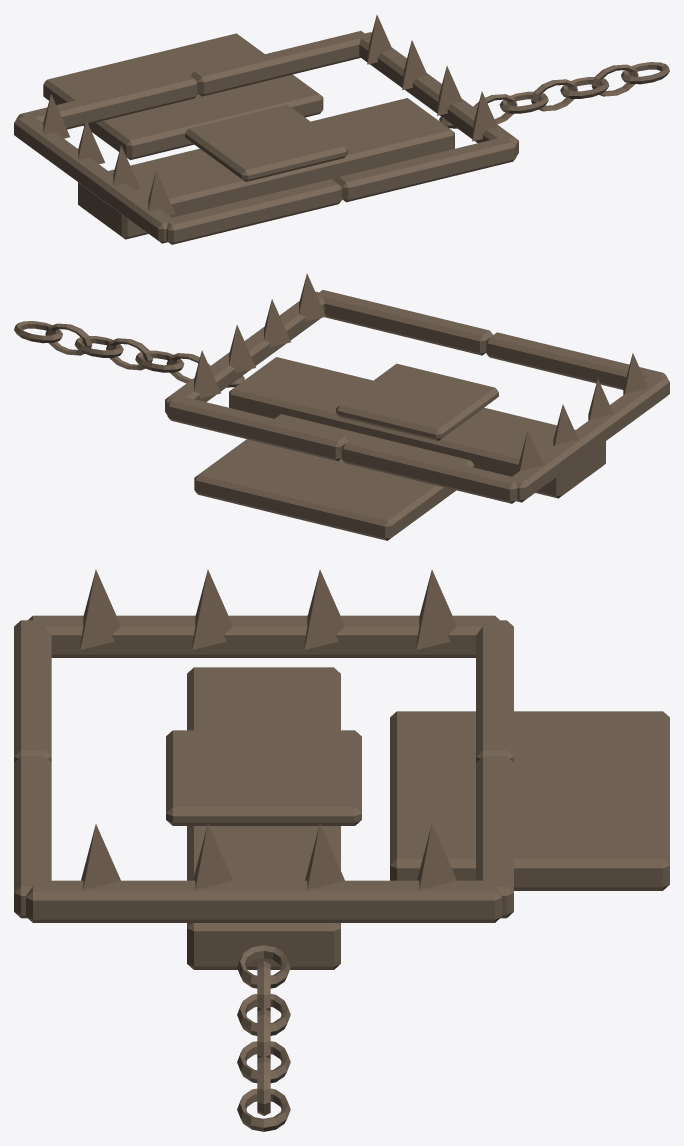
File: prop_bear_trap.glb
3 views of the same model, one above another, from view 1: azimuth 30°, elevation 25°; view 2: azimuth 150°, elevation 25°; view 3: azimuth 270°, elevation 25° (orthographic). The views are drawn at different scales.
Parts seen in each view (by area): view 1: FL_trap_base, FL_trap_spring, FL_trap_pan, FL_trap_jaw_bar.003, FL_trap_jaw_bar.001, FL_trap_jaw_curve, FL_trap_jaw_bar.002, FL_trap_jaw_bar, FL_trap_jaw_curve.001, FL_trap_chain.006, FL_trap_teeth.004, FL_trap_teeth.006 (+11 smaller); view 2: FL_trap_spring, FL_trap_base, FL_trap_pan, FL_trap_jaw_bar.002, FL_trap_jaw_bar, FL_trap_jaw_bar.003, FL_trap_jaw_curve, FL_trap_jaw_bar.001, FL_trap_jaw_curve.001, FL_trap_teeth.004, FL_trap_teeth.006, FL_trap_teeth.007 (+10 smaller); view 3: FL_trap_spring, FL_trap_base, FL_trap_jaw_curve.001, FL_trap_pan, FL_trap_jaw_curve, FL_trap_jaw_bar.003, FL_trap_jaw_bar.002, FL_trap_jaw_bar, FL_trap_jaw_bar.001, FL_trap_teeth.002, FL_trap_teeth.003, FL_trap_teeth (+9 smaller).
Part boxes in pixels (left/top/right/bottom): FL_trap_base: left=78, top=98, right=454, bottom=239; FL_trap_spring: left=43, top=33, right=323, bottom=160; FL_trap_pan: left=185, top=104, right=347, bottom=181; FL_trap_jaw_bar.003: left=335, top=136, right=516, bottom=202; FL_trap_jaw_bar.001: left=165, top=179, right=342, bottom=244; FL_trap_jaw_curve: left=14, top=115, right=171, bottom=243; FL_trap_jaw_bar.002: left=191, top=31, right=368, bottom=96; FL_trap_jaw_bar: left=16, top=73, right=197, bottom=129; FL_trap_jaw_curve.001: left=359, top=32, right=518, bottom=155; FL_trap_chain.006: left=621, top=62, right=669, bottom=84; FL_trap_teeth.004: left=367, top=15, right=392, bottom=64; FL_trap_teeth.006: left=437, top=66, right=462, bottom=115; FL_trap_spring: left=194, top=414, right=474, bottom=540; FL_trap_base: left=229, top=357, right=605, bottom=498; FL_trap_pan: left=336, top=363, right=498, bottom=440; FL_trap_jaw_bar.002: left=167, top=395, right=348, bottom=461; FL_trap_jaw_bar: left=341, top=438, right=518, bottom=503; FL_trap_jaw_bar.003: left=316, top=290, right=492, bottom=355; FL_trap_jaw_curve: left=511, top=375, right=669, bottom=502; FL_trap_jaw_bar.001: left=486, top=332, right=667, bottom=389; FL_trap_jaw_curve.001: left=165, top=291, right=324, bottom=414; FL_trap_teeth.004: left=194, top=350, right=220, bottom=398; FL_trap_teeth.006: left=264, top=299, right=290, bottom=347; FL_trap_teeth.007: left=299, top=273, right=325, bottom=321; FL_trap_spring: left=390, top=711, right=669, bottom=890; FL_trap_base: left=187, top=667, right=340, bottom=969; FL_trap_jaw_curve.001: left=26, top=880, right=501, bottom=922; FL_trap_pan: left=166, top=730, right=361, bottom=825; FL_trap_jaw_curve: left=28, top=615, right=499, bottom=657; FL_trap_jaw_bar.003: left=14, top=756, right=51, bottom=918; FL_trap_jaw_bar.002: left=476, top=756, right=513, bottom=918; FL_trap_jaw_bar: left=476, top=620, right=513, bottom=762; FL_trap_jaw_bar.001: left=14, top=620, right=51, bottom=762; FL_trap_teeth.002: left=192, top=569, right=232, bottom=649; FL_trap_teeth.003: left=80, top=569, right=120, bottom=649; FL_trap_teeth: left=416, top=570, right=456, bottom=649.
Bounding box in the file's own units: 0.769 × 0.1155 × 0.4685.
